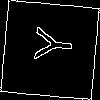Y: (25, 25, 73, 63)
